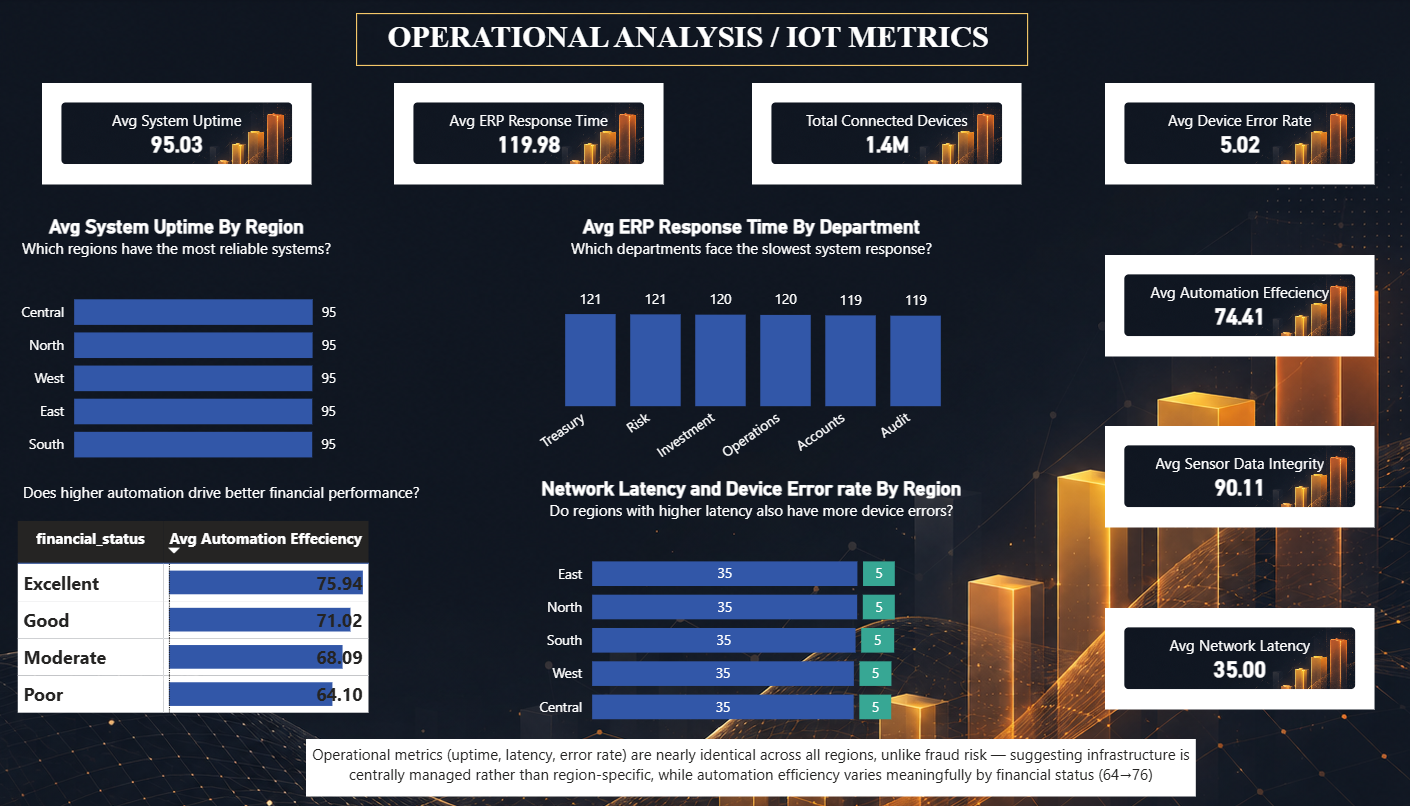

Layout of this report page (visuals, bound fields, positions):
{"tool":"powerbi","page":{"name":"Operational","canvas":[1280,720],"ordinal":2},"visuals":[{"type":"cardVisual","fields":{"Data":["public financial_management.Avg System Uptime"]},"box":[63.8,74.5,239.4,89.6],"z":0},{"type":"cardVisual","fields":{"Data":["public financial_management.avg_device_error_rate"]},"box":[1006.4,74.5,239.4,89.6],"z":1000},{"type":"cardVisual","fields":{"Data":["public financial_management.Avg ERP Response Time"]},"box":[376,74.5,239.4,89.6],"z":2000},{"type":"cardVisual","fields":{"Data":["public financial_management.Avg Network Latency"]},"box":[1006.4,540,239.4,89.6],"z":3000},{"type":"cardVisual","fields":{"Data":["public financial_management.Avg Sensor Data Integrity"]},"box":[1006.4,378.6,239.4,89.6],"z":4000},{"type":"cardVisual","fields":{"Data":["public financial_management.Total Connected Devices"]},"box":[693.4,74.5,239.4,89.6],"z":5000},{"type":"cardVisual","fields":{"Data":["public financial_management.Avg Automation Effeciency"]},"box":[1006.4,227,239.4,89.6],"z":6000},{"type":"textbox","box":[342.3,12.4,595.9,47],"z":7000},{"type":"barChart","title":"Avg System Uptime By Region","fields":{"Category":["public financial_management.region"],"Y":["public financial_management.Avg System Uptime"]},"box":[36.4,191.5,293.5,232.3],"z":8000},{"type":"columnChart","title":"Avg ERP Response Time By Department","fields":{"Category":["public financial_management.department"],"Y":["public financial_management.Avg ERP Response Time"]},"box":[495.7,191.5,394.6,232.3],"z":9000},{"type":"barChart","title":"Network Latency and Device Error rate By Region","fields":{"Category":["public financial_management.region"],"Y":["public financial_management.Avg Network Latency","public financial_management.avg_device_error_rate"]},"box":[495.7,423.8,394.6,232.3],"z":10000},{"type":"tableEx","fields":{"Values":["public financial_management.financial_status","public financial_management.Avg Automation Effeciency"]},"box":[36.2,423.5,372.8,222],"z":11000},{"type":"textbox","box":[298,656.3,789,50.7],"z":12000}]}

Visuals, with their boxes in screenshot pixels (x1, y1, x2, y2), scaled from the page's 1280x720 canvas onto the 1410x806 screenshot:
cardVisual - public financial_management.Avg System Uptime: 70,83,334,184
cardVisual - public financial_management.avg_device_error_rate: 1109,83,1372,184
cardVisual - public financial_management.Avg ERP Response Time: 414,83,678,184
cardVisual - public financial_management.Avg Network Latency: 1109,604,1372,705
cardVisual - public financial_management.Avg Sensor Data Integrity: 1109,424,1372,524
cardVisual - public financial_management.Total Connected Devices: 764,83,1028,184
cardVisual - public financial_management.Avg Automation Effeciency: 1109,254,1372,354
textbox: 377,14,1033,66
"Avg System Uptime By Region" barChart: 40,214,363,474
"Avg ERP Response Time By Department" columnChart: 546,214,981,474
"Network Latency and Device Error rate By Region" barChart: 546,474,981,734
tableEx - public financial_management.financial_status x public financial_management.Avg Automation Effeciency: 40,474,451,723
textbox: 328,735,1197,791
